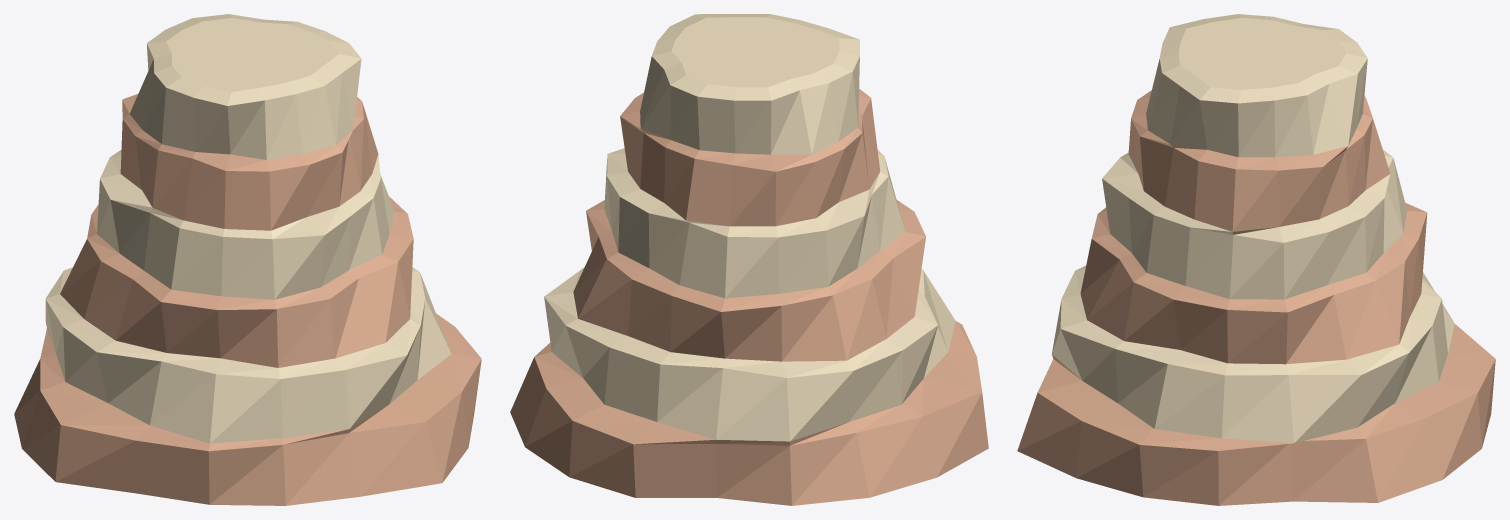
The model's file is SM_Desert_Mesa_Small.glb.
3 renders of one model, left to right at view 1: azimuth 30°, elevation 25°; view 2: azimuth 150°, elevation 25°; view 3: azimuth 270°, elevation 25°, orthographic.
Parts seen in each view (by area): view 1: SM_Desert_Mesa_Small; view 2: SM_Desert_Mesa_Small; view 3: SM_Desert_Mesa_Small.
Boxes of the visible parts, bbox=[...] form: SM_Desert_Mesa_Small: bbox=[14, 14, 481, 505]; SM_Desert_Mesa_Small: bbox=[510, 14, 988, 505]; SM_Desert_Mesa_Small: bbox=[1017, 14, 1495, 505].
Bounding box in the file's own units: 4.44 × 3.8 × 4.57.
